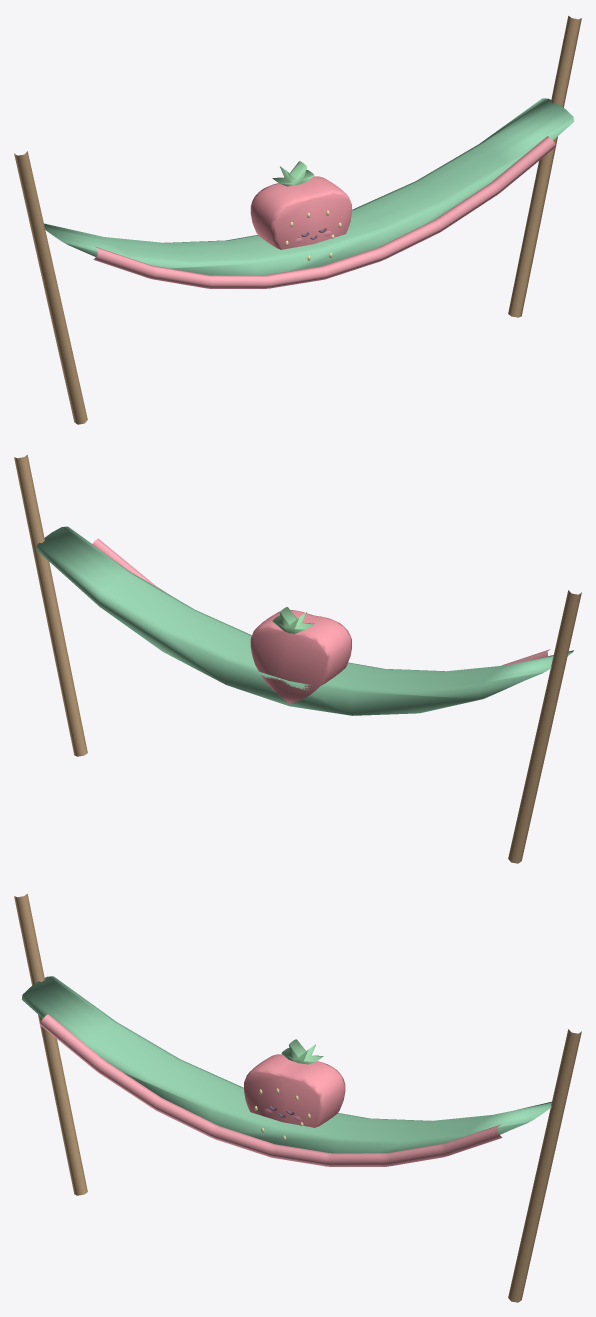
Rendered from decor_4_classic.glb.
3 renders of one model, top to bottom at view 1: azimuth 30°, elevation 25°; view 2: azimuth 150°, elevation 25°; view 3: azimuth 330°, elevation 25°, orthographic.
Visible parts, largest first — view 1: decor_4_classic; view 2: decor_4_classic; view 3: decor_4_classic.
Part boxes in pixels (left/top/right/bottom): decor_4_classic: left=14, top=16, right=581, bottom=424; decor_4_classic: left=14, top=455, right=581, bottom=863; decor_4_classic: left=14, top=894, right=581, bottom=1302.
Bounding box in the file's own units: 18.74 × 9.08 × 2.14.
